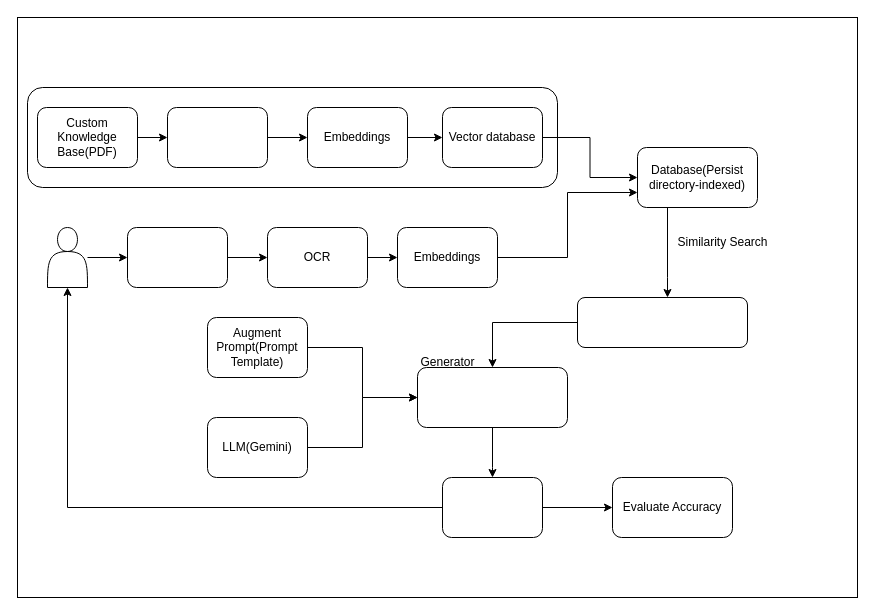
This 875x615 diagram has some shape labels left out. The box of each missing label's shape, as (x1, y1, x2, y2) in pixels:
Chain: (416, 366, 568, 428)
Chuncks: (166, 106, 268, 168)
Prompt/pdf: (126, 226, 228, 288)
Result/ Response: (442, 476, 542, 538)
Retrieve relevant documents: (576, 296, 748, 348)
